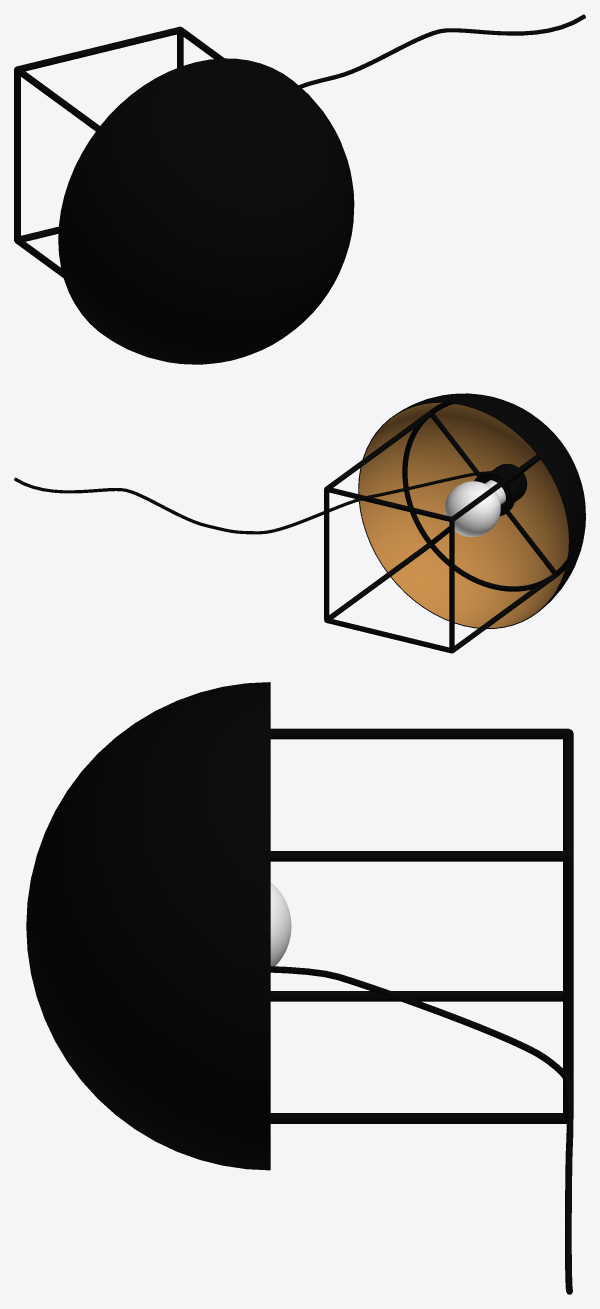
Rendered from Almerich_Coco_S_mat(1).obj.
3 renders of one model, top to bottom at view 1: azimuth 30°, elevation 25°; view 2: azimuth 150°, elevation 25°; view 3: azimuth 270°, elevation 25°, orthographic. The views are drawn at different scales.
Visible parts, largest first — view 1: Almerich_Coco_S_mat1; view 2: Almerich_Coco_S_mat1; view 3: Almerich_Coco_S_mat1.
Part boxes in pixels (<box>): Almerich_Coco_S_mat1: <box>14,14,585,364</box>; Almerich_Coco_S_mat1: <box>14,393,585,653</box>; Almerich_Coco_S_mat1: <box>26,682,573,1294</box>.
Bounding box in the file's own units: 56.75 × 25 × 28.
